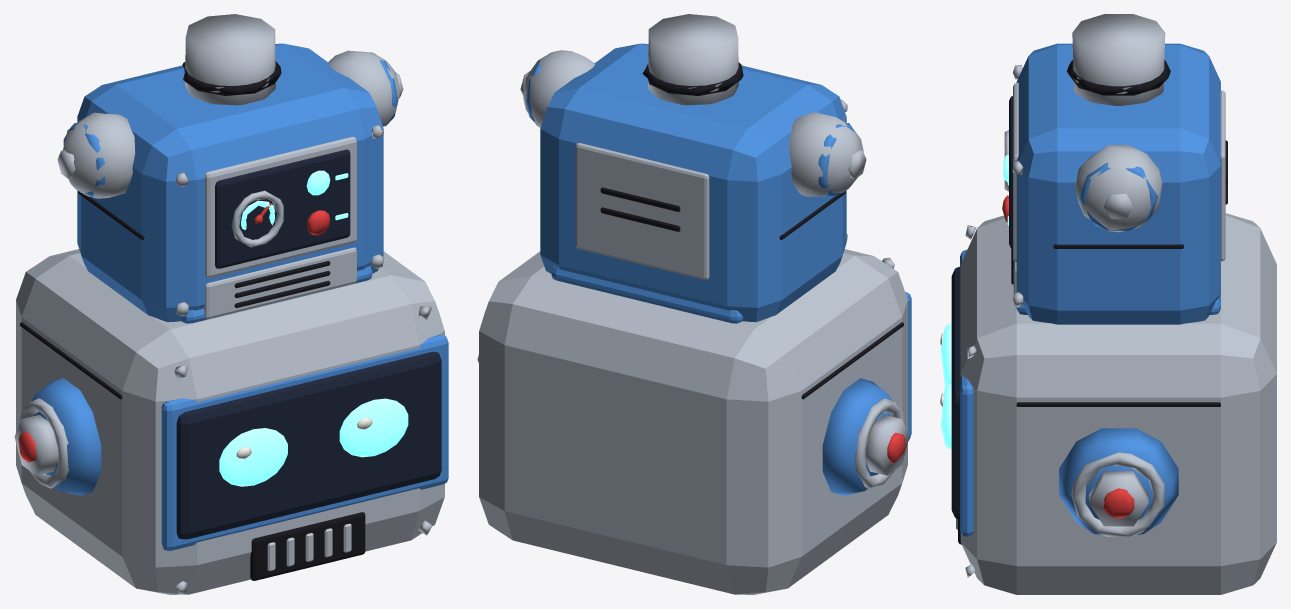
The model's file is robot-low.glb.
3 renders of one model, left to right at view 1: azimuth 30°, elevation 25°; view 2: azimuth 150°, elevation 25°; view 3: azimuth 270°, elevation 25°, orthographic.
Visible parts, largest first — view 1: robot_Head, robot_Body; view 2: robot_Head, robot_Body; view 3: robot_Head, robot_Body.
Boxes of the visible parts, bbox=[...] form: robot_Head: bbox=[14, 249, 448, 594]; robot_Body: bbox=[57, 14, 403, 322]; robot_Head: bbox=[477, 249, 911, 594]; robot_Body: bbox=[520, 14, 866, 322]; robot_Head: bbox=[940, 213, 1276, 594]; robot_Body: bbox=[1002, 14, 1227, 324].
Size of the model in its own units: 0.2614 by 0.3 by 0.1811.
